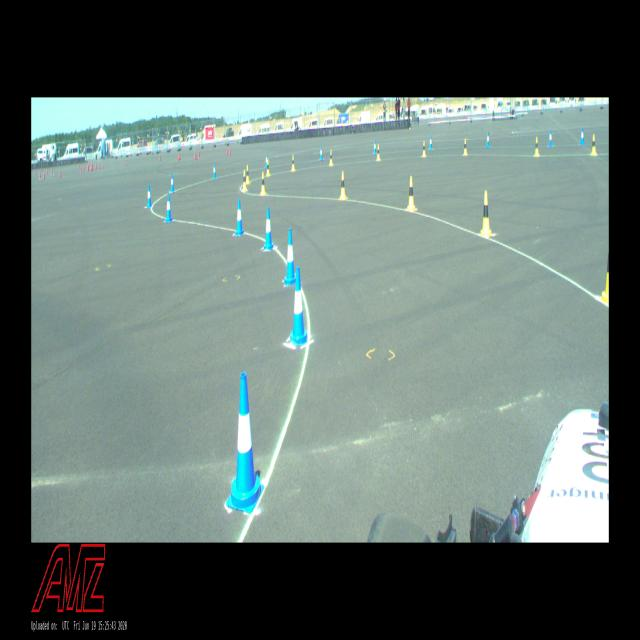blue_cone: (226, 372, 264, 514), (289, 266, 308, 344), (284, 228, 296, 285), (264, 207, 274, 250), (234, 199, 244, 236), (165, 194, 172, 222), (146, 185, 152, 207), (580, 128, 585, 145), (548, 129, 553, 146), (170, 174, 174, 192), (372, 140, 377, 154), (486, 131, 490, 147), (264, 154, 268, 168), (213, 163, 216, 179), (429, 136, 432, 150), (320, 147, 322, 160)
yellow_cone: (481, 190, 491, 237), (406, 176, 416, 211), (602, 250, 608, 302), (339, 170, 346, 200), (259, 171, 266, 196), (591, 134, 597, 155), (534, 136, 540, 156), (242, 170, 248, 190), (245, 164, 250, 184), (463, 138, 468, 156), (376, 144, 381, 160), (329, 150, 333, 166), (422, 141, 426, 157), (292, 155, 296, 171), (266, 160, 270, 176)
